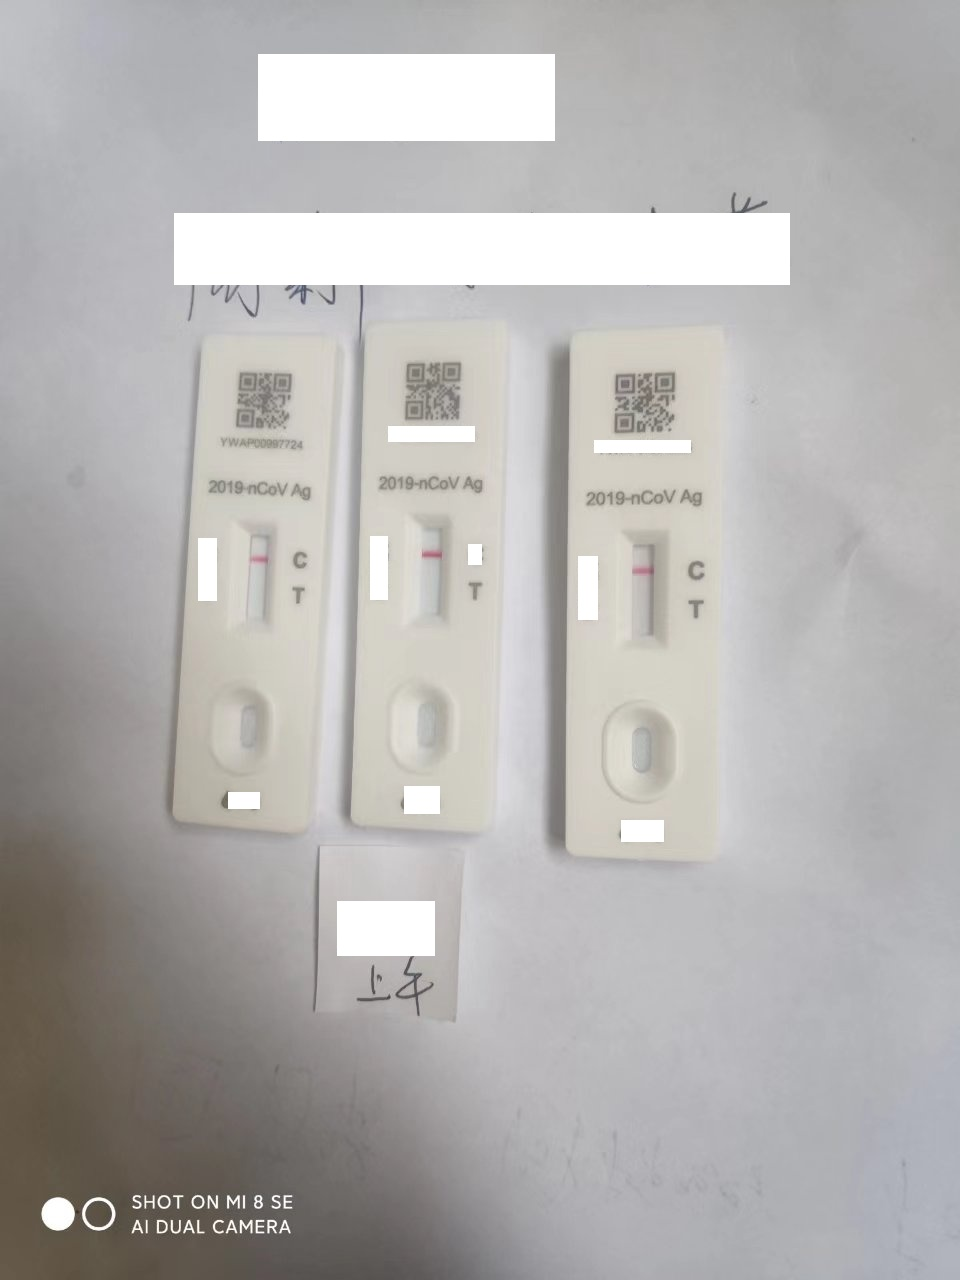negative: (619, 524, 669, 651), (405, 510, 453, 631), (233, 518, 276, 630)
